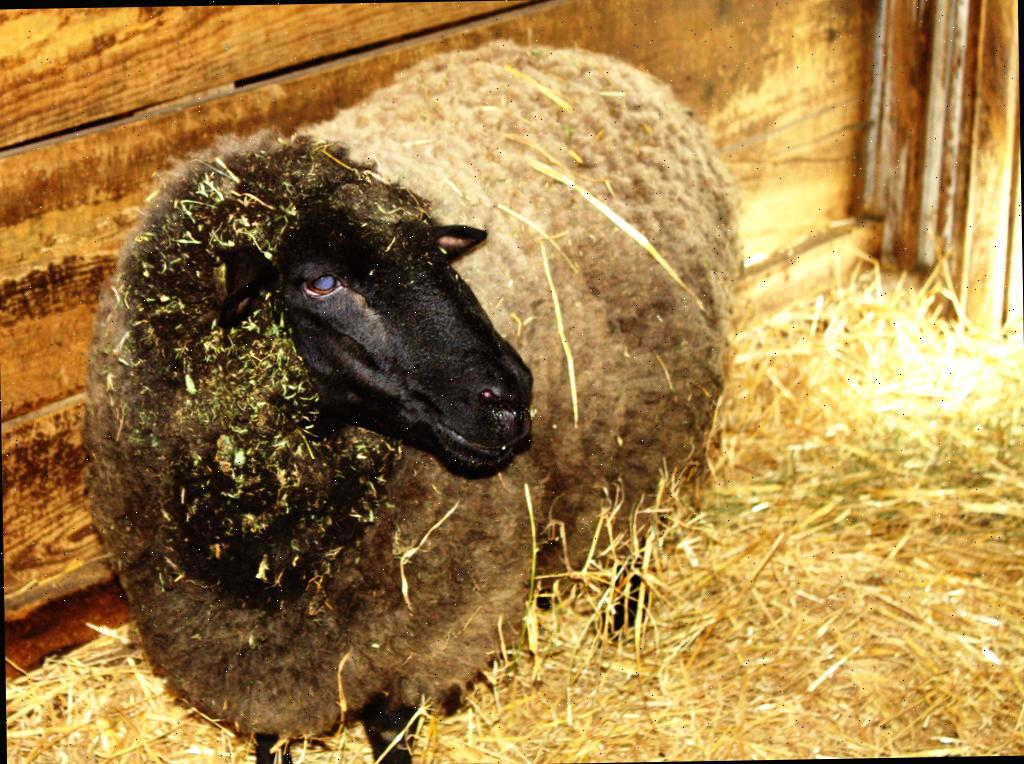Sheep: (72, 35, 749, 764)
